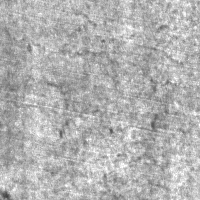crazing: (76, 8, 154, 139)
